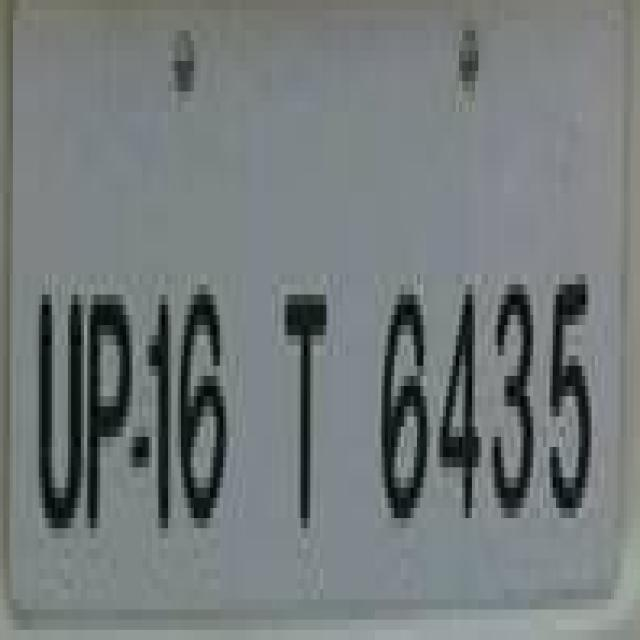license_plate: (0, 71, 608, 610)
